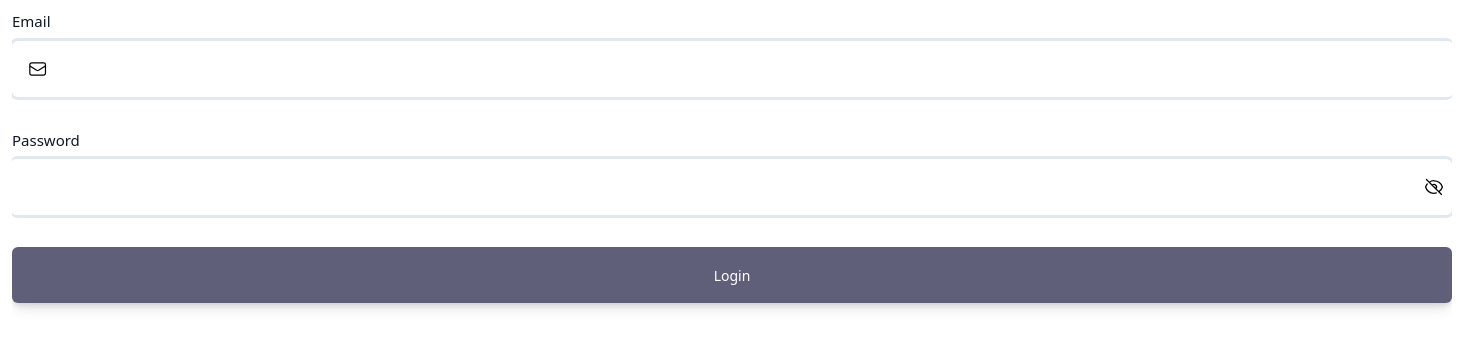
LoginForm Component › submits the form with valid credentials
This screenshot has width=1464, height=353.
In the field: (758, 68) [63,40,1452,96], type "test@example.com"
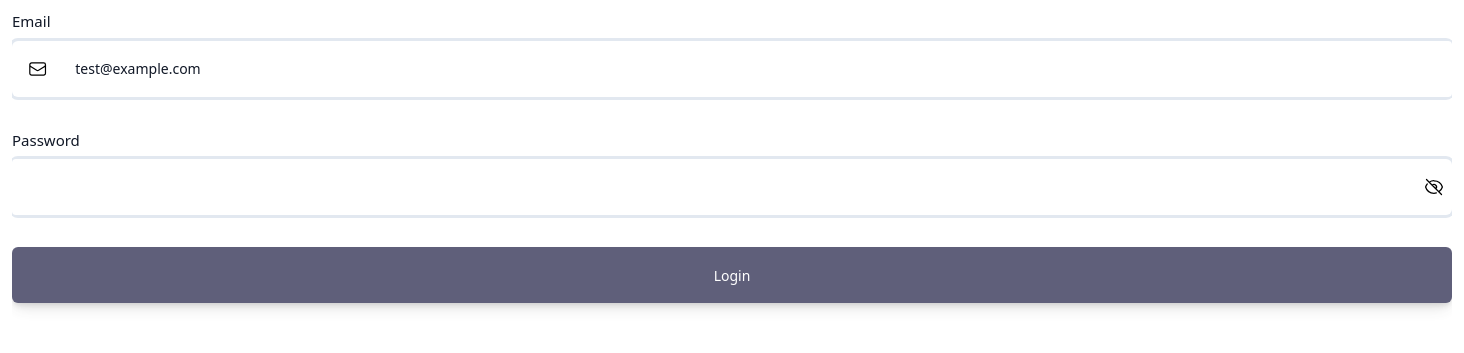
In the password field: (706, 187) [12,159,1400,215], type "password123"
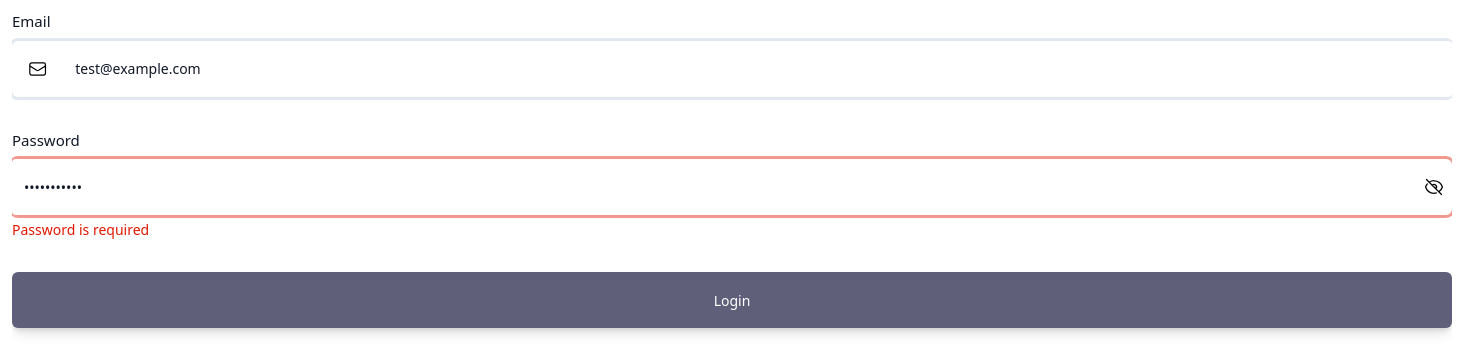
Click the button "Login": (732, 300) [12,272,1452,328]
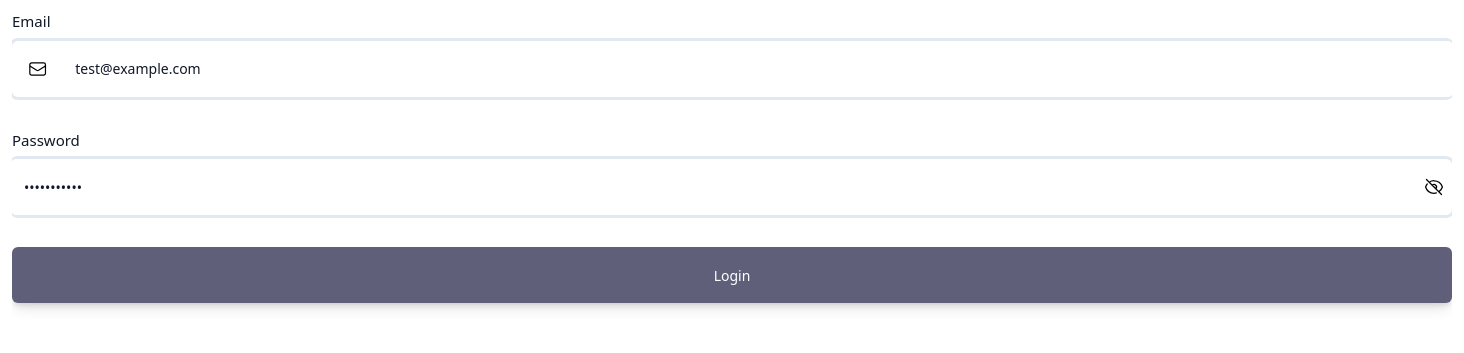
Expected: the text "required" is not shown
